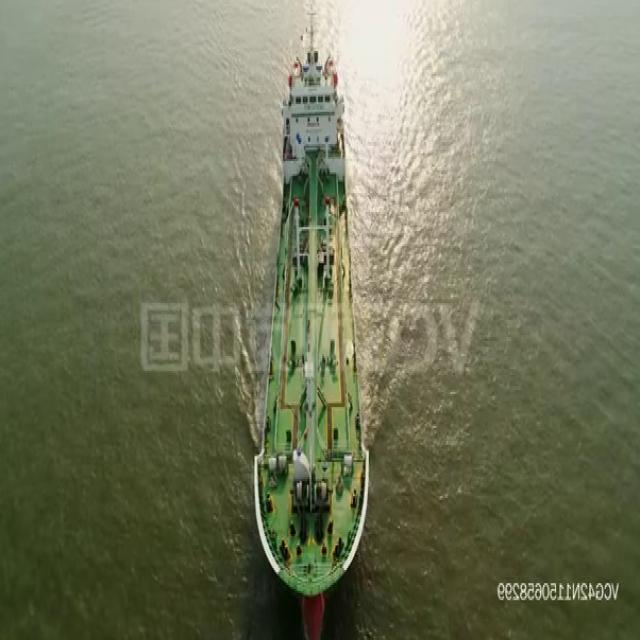cargoship: (253, 13, 368, 640)
